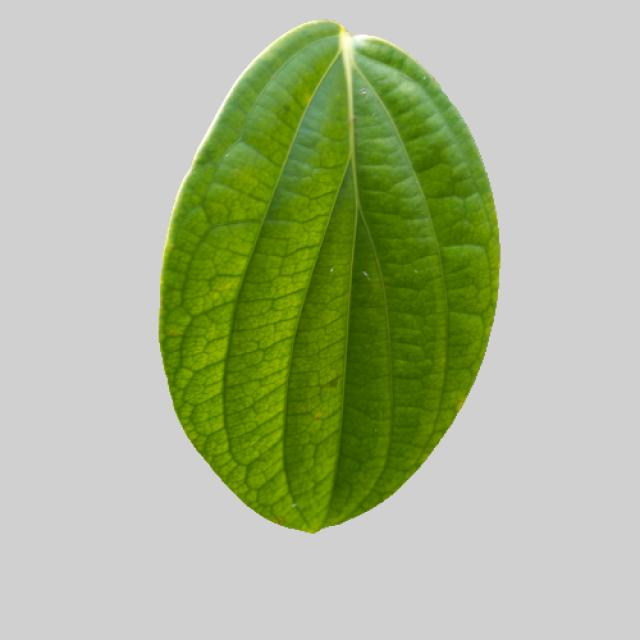healthy: (162, 18, 500, 538)
